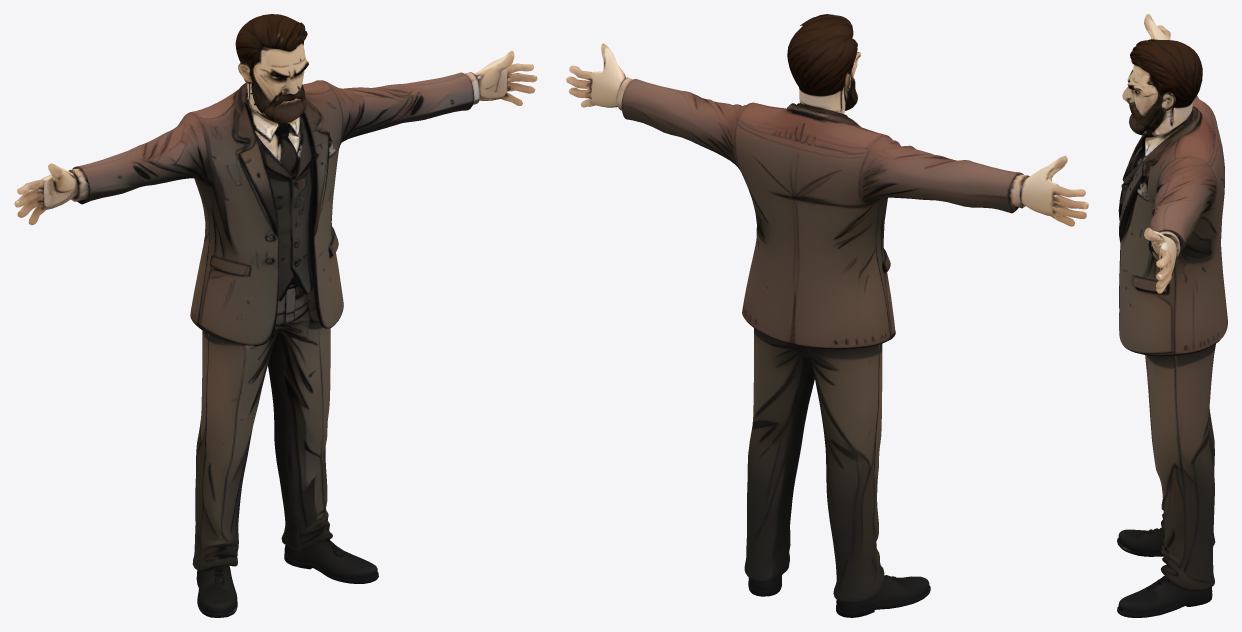
Rendered from base_basic_shaded.fbx.
3 renders of one model, left to right at view 1: azimuth 30°, elevation 25°; view 2: azimuth 150°, elevation 25°; view 3: azimuth 270°, elevation 25°, orthographic. The views are drawn at different scales.
Parts seen in each view (by area): view 1: model; view 2: model; view 3: model.
Boxes of the visible parts, bbox=[...] form: model: bbox=[14, 14, 537, 617]; model: bbox=[566, 14, 1088, 617]; model: bbox=[1117, 14, 1227, 617].
Bounding box in the file's own units: 166 × 173 × 32.27.
